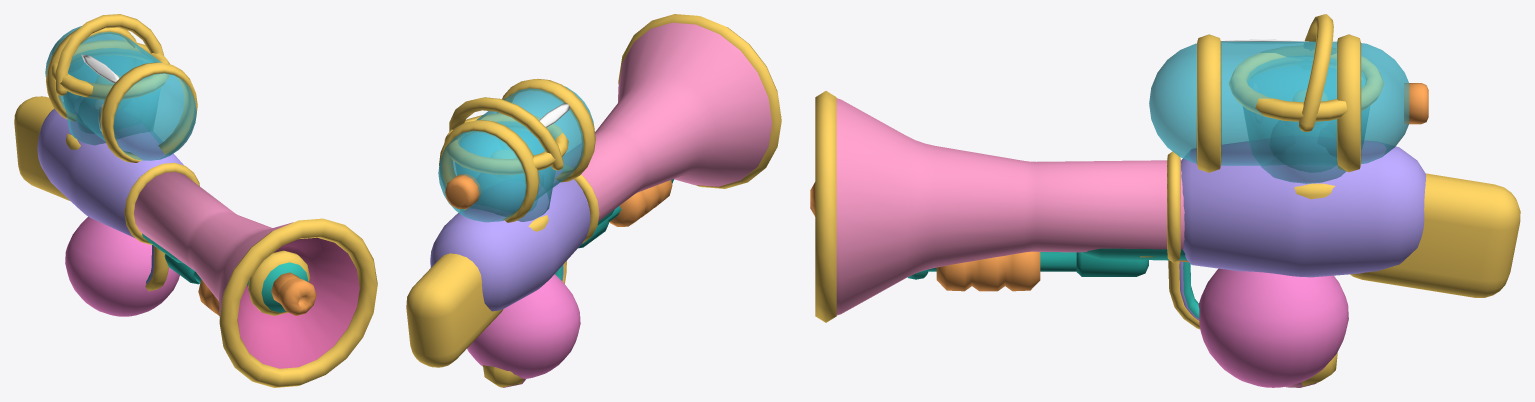
Rendered from weapons.glb.
3 renders of one model, left to right at view 1: azimuth 30°, elevation 25°; view 2: azimuth 150°, elevation 25°; view 3: azimuth 270°, elevation 25°, orthographic. The views are drawn at different scales.
Visible parts, largest first — view 1: gun_bucket_Body, gun_soaker_Body, gun_soaker_Tank, balloon, gun_bucket_Tank, gun_pistol_Body, gun_soaker_Pump; view 2: gun_bucket_Body, gun_soaker_Body, gun_soaker_Tank, balloon, gun_bucket_Tank, gun_soaker_Pump, gun_pistol_Body; view 3: gun_bucket_Body, gun_soaker_Body, gun_soaker_Tank, balloon, gun_bucket_Tank, gun_soaker_Pump, gun_pistol_Body.
Part boxes in pixels (<box>): gun_bucket_Body: <box>37,14,377,387</box>; gun_soaker_Body: <box>14,27,316,315</box>; gun_soaker_Tank: <box>45,26,196,160</box>; balloon: <box>65,216,179,316</box>; gun_bucket_Tank: <box>63,48,160,145</box>; gun_pistol_Body: <box>66,75,168,291</box>; gun_soaker_Pump: <box>198,279,219,315</box>; gun_bucket_Body: <box>430,14,781,387</box>; gun_soaker_Body: <box>406,79,674,367</box>; gun_soaker_Tank: <box>438,86,593,222</box>; balloon: <box>467,274,580,378</box>; gun_bucket_Tank: <box>455,121,555,221</box>; gun_soaker_Pump: <box>609,180,672,226</box>; gun_pistol_Body: <box>483,150,566,387</box>; gun_bucket_Body: <box>815,14,1425,387</box>; gun_soaker_Body: <box>810,34,1520,318</box>; gun_soaker_Tank: <box>1149,41,1409,165</box>; balloon: <box>1198,268,1348,387</box>; gun_bucket_Tank: <box>1243,57,1369,183</box>; gun_soaker_Pump: <box>936,251,1040,291</box>; gun_pistol_Body: <box>1140,90,1337,386</box>.
Bounding box in the file's own units: 0.3392 × 0.5832 × 1.03.
